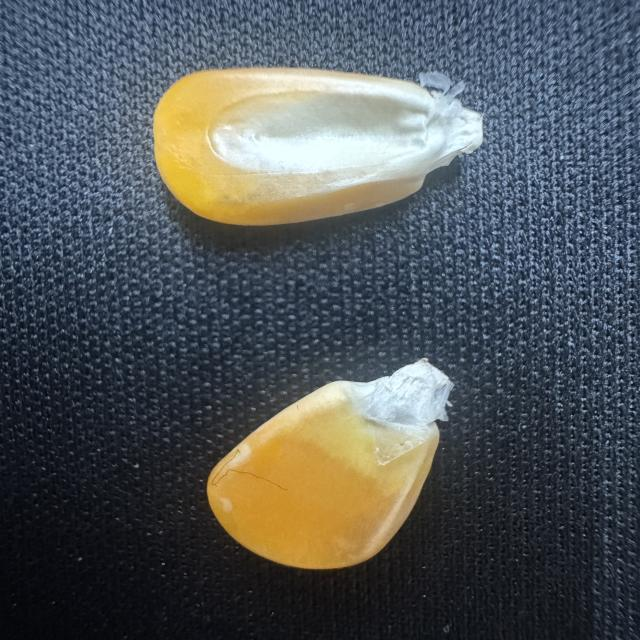Good-Seed: (140, 58, 496, 242), (201, 346, 460, 572)
